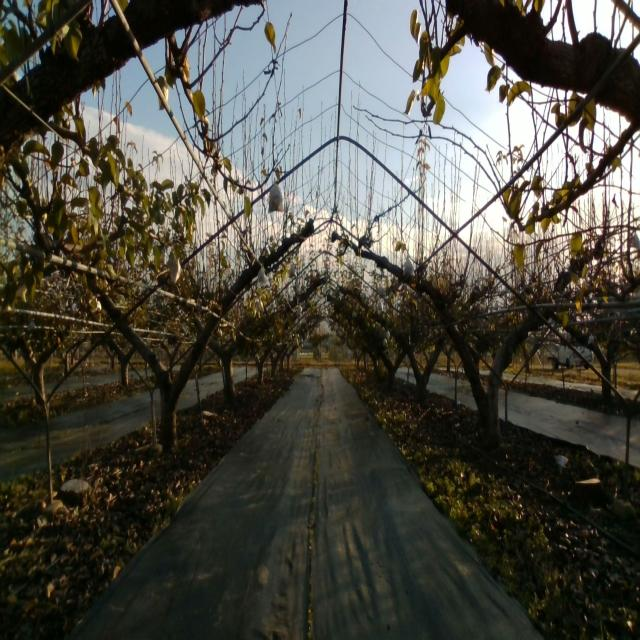pearbags: (266, 178, 285, 213), (169, 256, 181, 284), (402, 258, 415, 280)
